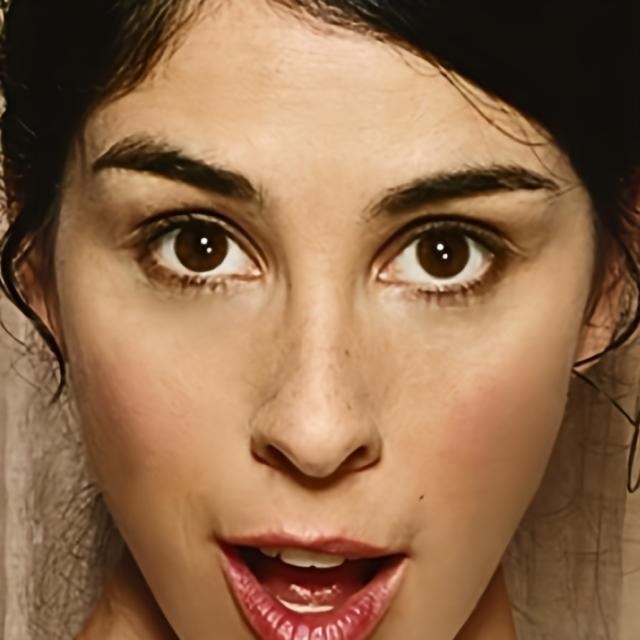surprise: (55, 0, 598, 640)
